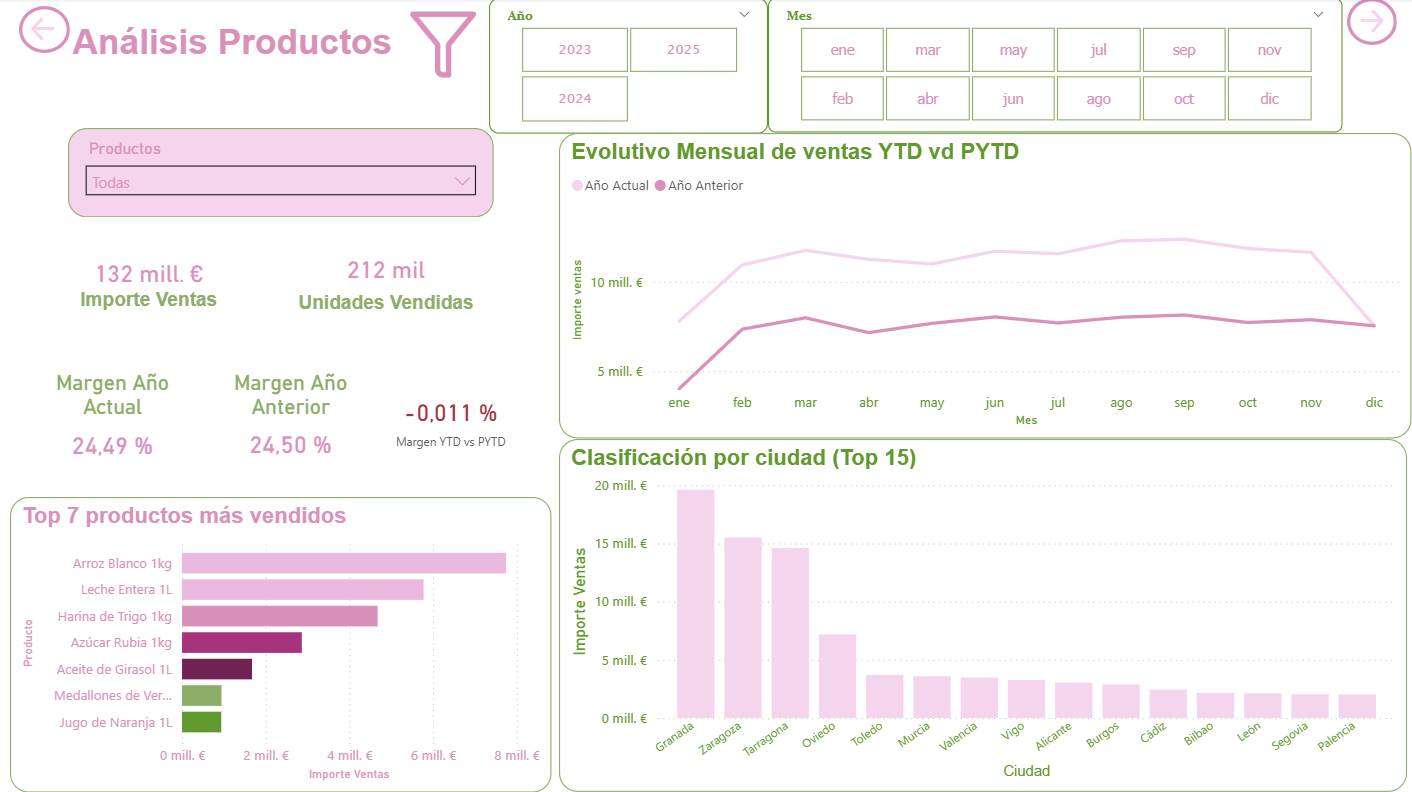

The page's visual inventory and layout, read from the dashboard file:
{"tool":"powerbi","page":{"name":"Análisis Productos","canvas":[1280,720],"ordinal":2},"visuals":[{"type":"slicer","fields":{"Values":["Dim_Calendar.Fecha.Variación.Jerarquía de fechas.Año"]},"box":[443.5,0,252.9,122.6],"z":0},{"type":"slicer","fields":{"Values":["Dim_Calendar.MesCorto"]},"box":[696.4,0,520.5,122.4],"z":1000},{"type":"lineChart","title":"Evolutivo Mensual de ventas YTD vd PYTD","fields":{"Category":["Dim_Calendar.MesCorto"],"Y":["Medidas.Importe Ventas","Medidas.Importe Ventas PYTD"]},"box":[506.7,122.6,773.3,277.2],"z":2000},{"type":"clusteredColumnChart","title":"Clasificación por ciudad (Top 15)","fields":{"Category":["CCAA.Ciudad"],"Y":["Medidas.Importe Ventas"]},"box":[506.7,399.8,769.4,320],"z":3000},{"type":"slicer","fields":{"Values":["Dim_Products.Descrip_Producto"]},"box":[61.7,117.9,386.3,80.7],"z":4000},{"type":"card","title":"Margen Año Actual","fields":{"Values":["Medidas.% Margen vs Importe YTD"]},"box":[17.2,337.3,169.6,91.6],"z":5000},{"type":"card","title":"Margen Año Anterior","fields":{"Values":["Medidas.% Margen vs Importe PYTD"]},"box":[193.7,337.2,139.1,91.4],"z":6000},{"type":"card","fields":{"Values":["Medidas.% Margen vs Importe YTD vs PYTD"]},"box":[325.5,337.2,166.3,91.4],"z":7000},{"type":"cardVisual","fields":{"Data":["Medidas.Importe Ventas"]},"box":[25.4,198.6,219.4,125.1],"z":8000},{"type":"barChart","title":"Top 7 productos más vendidos","fields":{"Category":["Dim_Products.Descrip_Producto"],"Y":["Medidas.Importe Ventas"]},"box":[9.1,452.5,491.5,267.5],"z":9000},{"type":"card","fields":{"Values":["Medidas.Unidades Vendidas"]},"box":[234,198.6,232.1,115.2],"z":10000},{"type":"textbox","box":[60.8,17.2,311,74.4],"z":11000},{"type":"image","box":[371.8,7.3,59.8,69.8],"z":12000},{"type":"actionButton","box":[1221.5,0,45.3,42.6],"z":12001},{"type":"actionButton","box":[17.2,7.3,46.2,42.6],"z":12002}]}

Visuals, with their boxes in screenshot pixels (x1, y1, x2, y2), scaled from the page's 1280x720 canvas onto the 1412x792 screenshot:
slicer - Dim_Calendar.Fecha.Variación.Jerarquía de fechas.Año: left=489, top=0, right=768, bottom=135
slicer - Dim_Calendar.MesCorto: left=768, top=0, right=1342, bottom=135
"Evolutivo Mensual de ventas YTD vd PYTD" lineChart: left=559, top=135, right=1411, bottom=440
"Clasificación por ciudad (Top 15)" clusteredColumnChart: left=559, top=440, right=1408, bottom=791
slicer - Dim_Products.Descrip_Producto: left=68, top=130, right=494, bottom=218
"Margen Año Actual" card: left=19, top=371, right=206, bottom=472
"Margen Año Anterior" card: left=214, top=371, right=367, bottom=471
card - Medidas.% Margen vs Importe YTD vs PYTD: left=359, top=371, right=543, bottom=471
cardVisual - Medidas.Importe Ventas: left=28, top=218, right=270, bottom=356
"Top 7 productos más vendidos" barChart: left=10, top=498, right=552, bottom=791
card - Medidas.Unidades Vendidas: left=258, top=218, right=514, bottom=345
textbox: left=67, top=19, right=410, bottom=101
image: left=410, top=8, right=476, bottom=85
actionButton: left=1347, top=0, right=1397, bottom=47
actionButton: left=19, top=8, right=70, bottom=55
